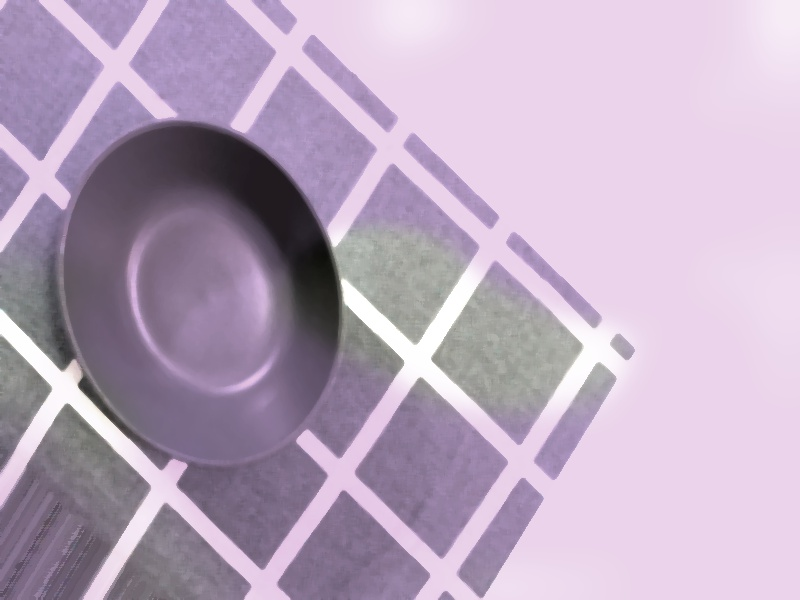bowl_big: (0, 26, 409, 556)
